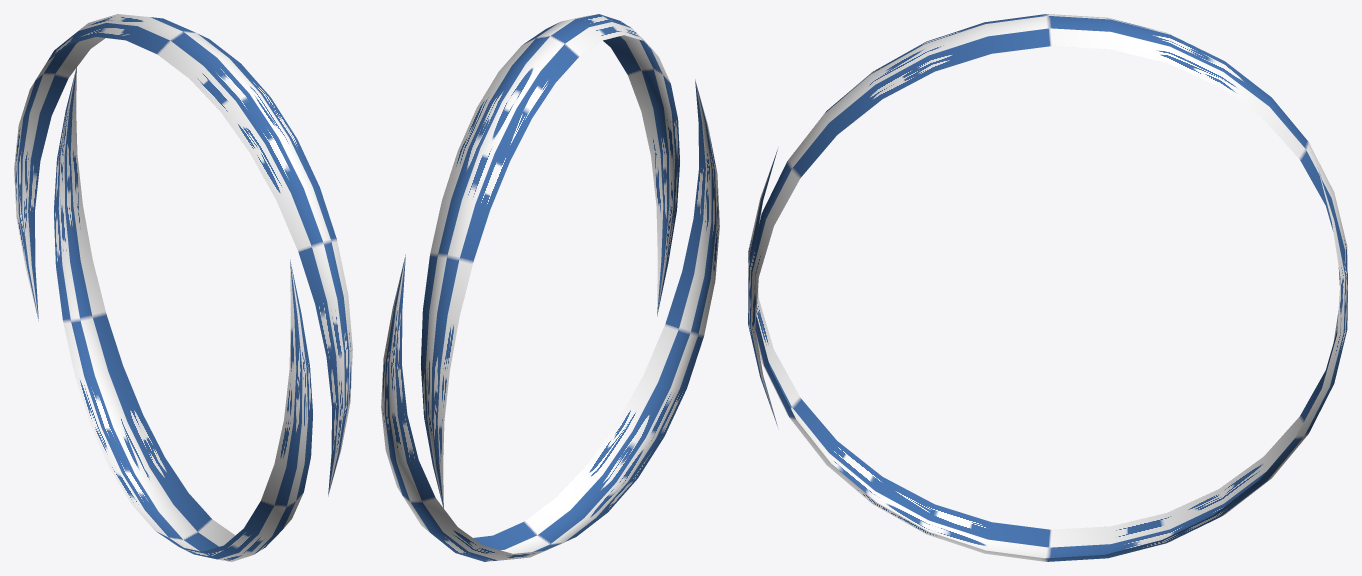
File: Ring19.fbx
3 renders of one model, left to right at view 1: azimuth 30°, elevation 25°; view 2: azimuth 150°, elevation 25°; view 3: azimuth 270°, elevation 25°, orthographic. The views are drawn at different scales.
Visible parts, largest first — view 1: SM_e_cmn_Ring019; view 2: SM_e_cmn_Ring019; view 3: SM_e_cmn_Ring019.
Boxes of the visible parts, x1=… form: SM_e_cmn_Ring019: x1=14, y1=14, x2=352, y2=561; SM_e_cmn_Ring019: x1=381, y1=14, x2=719, y2=561; SM_e_cmn_Ring019: x1=748, y1=14, x2=1347, y2=561.
Bounding box in the file's own units: 15.45 × 98.28 × 98.14.
